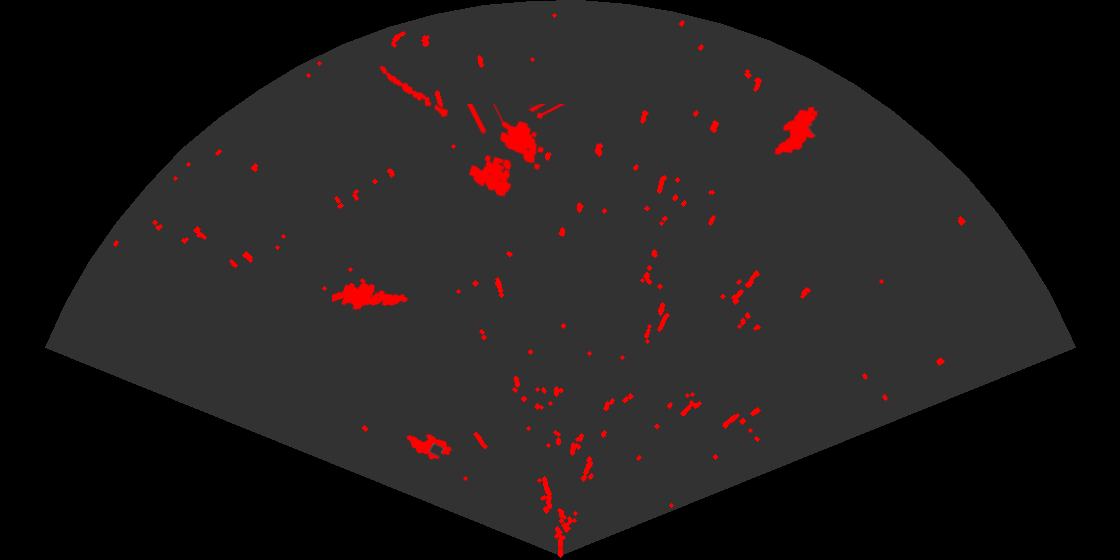AUV: (773, 105, 820, 157), (405, 433, 453, 461)
cage: (465, 104, 567, 198)
chain: (378, 64, 453, 120)
frogman: (332, 277, 409, 311)
